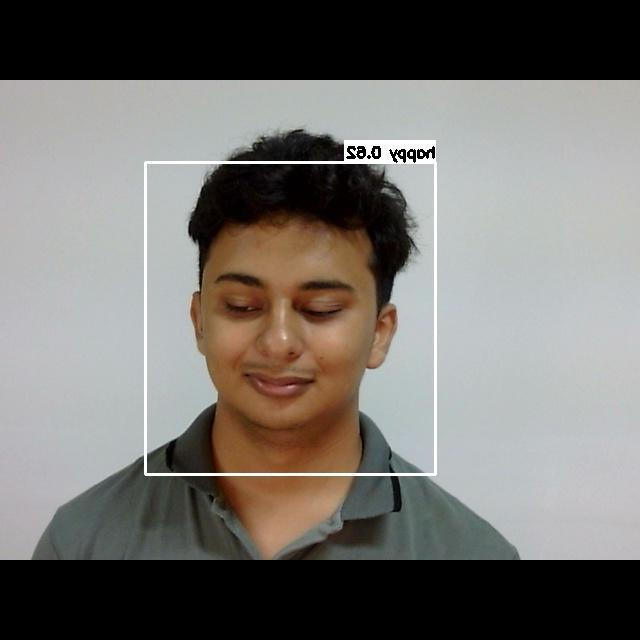Happy: (195, 236, 384, 416)
